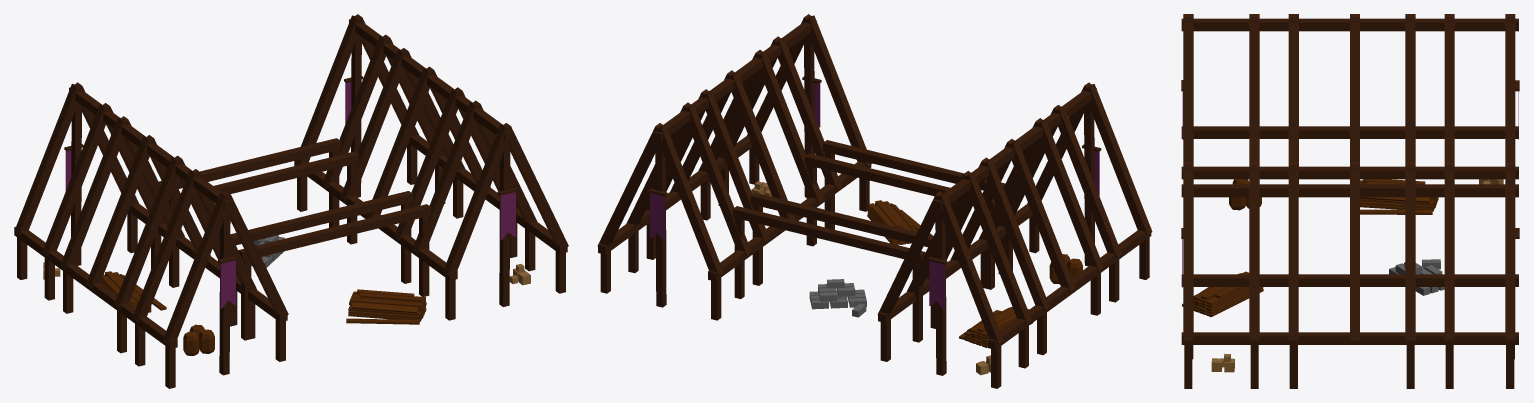
File: MineBuildPhase2v2.fbx
3 renders of one model, left to right at view 1: azimuth 30°, elevation 25°; view 2: azimuth 150°, elevation 25°; view 3: azimuth 270°, elevation 25°, orthographic. The views are drawn at different scales.
Visible parts, largest first — view 1: Cube.3987; view 2: Cube.3987; view 3: Cube.3987.
Part boxes in pixels (x1,y1,x2,y2): Cube.3987: [14, 14, 568, 388]; Cube.3987: [597, 14, 1152, 388]; Cube.3987: [1181, 14, 1519, 388].
Size of the model in its own units: 415 by 178 by 280.
